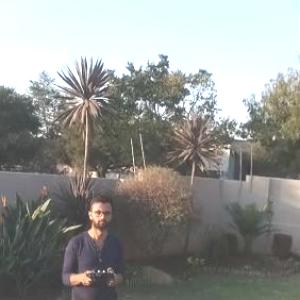follow: (61, 182, 133, 299)
